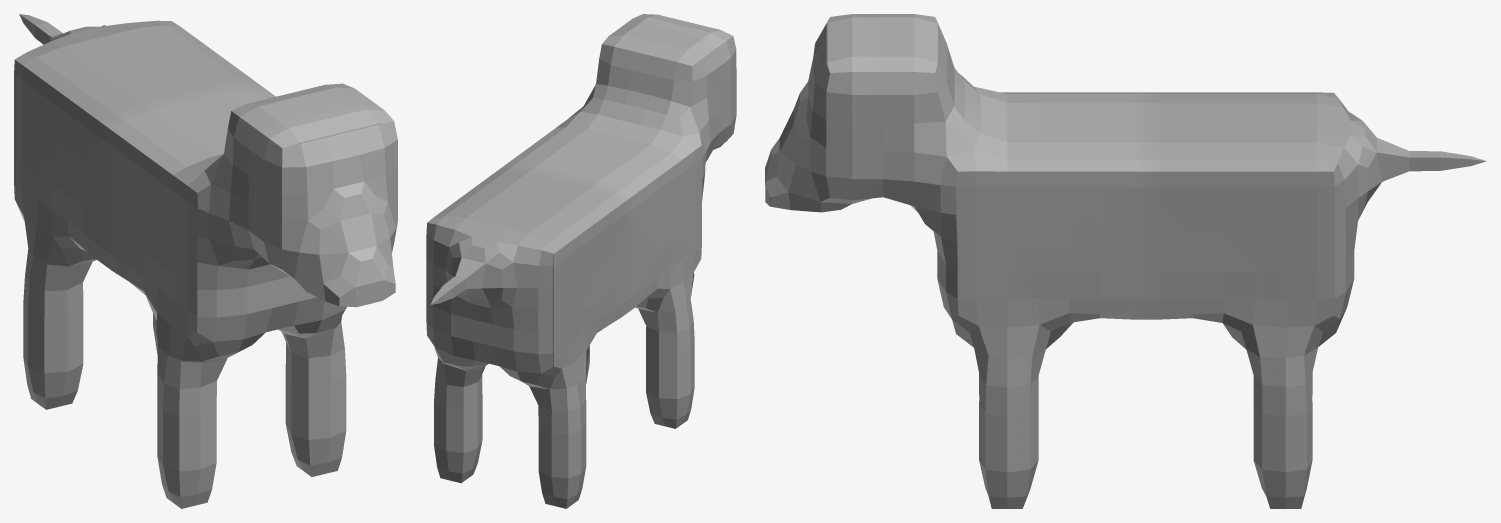
File: wolf.glb
3 views of the same model, side by side, from view 1: azimuth 30°, elevation 25°; view 2: azimuth 150°, elevation 25°; view 3: azimuth 270°, elevation 25° (orthographic). The views are drawn at different scales.
Visible parts, largest first — view 1: geometry_0; view 2: geometry_0; view 3: geometry_0.
Boxes of the visible parts, left/top/right/bottom form: geometry_0: left=14, top=14, right=397, bottom=508; geometry_0: left=426, top=14, right=736, bottom=508; geometry_0: left=765, top=14, right=1486, bottom=508.
Size of the model in its own units: 0.4437 by 1 by 1.51.
Materials: 1 (1 with a texture image).
